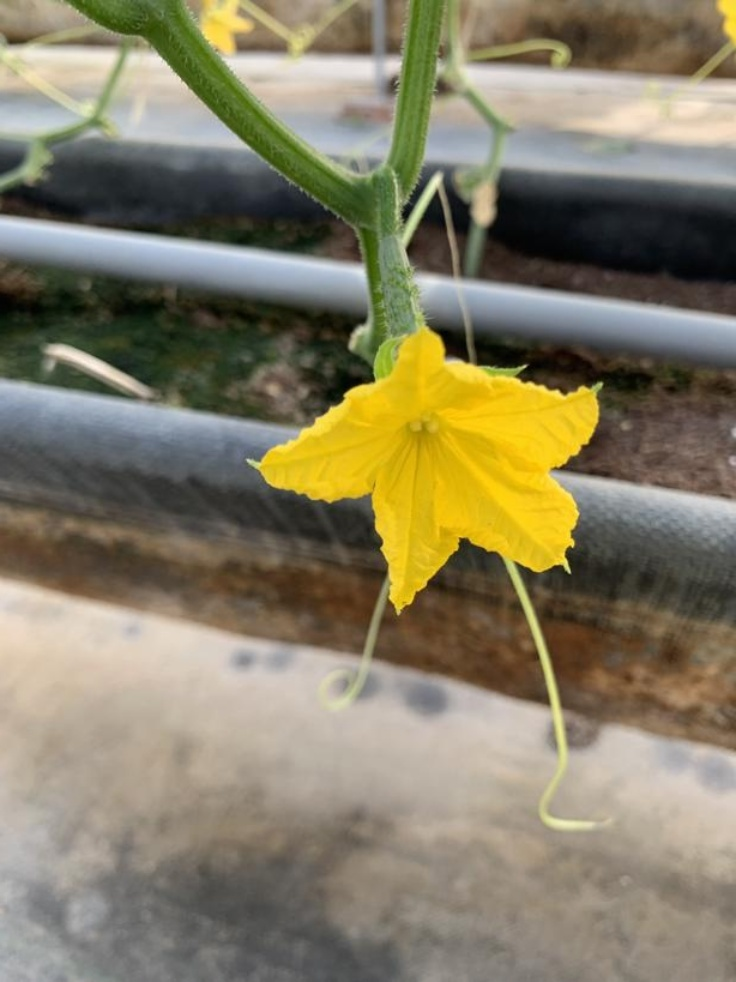flowering: (238, 218, 617, 626)
